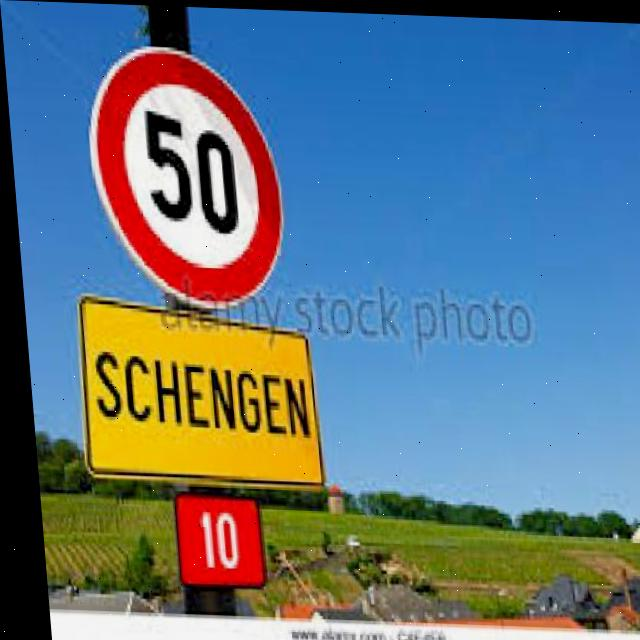Speed limit 50: (77, 40, 289, 309)
